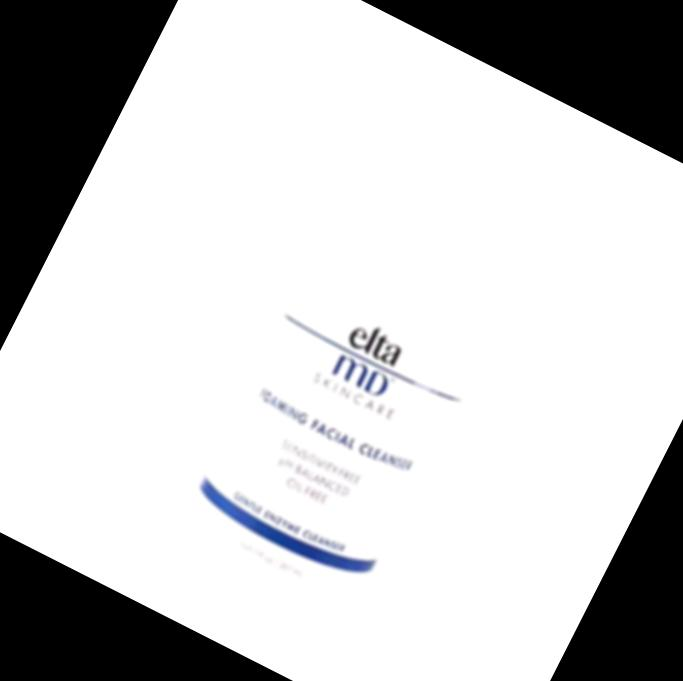cosmetic: (167, 85, 579, 644)
